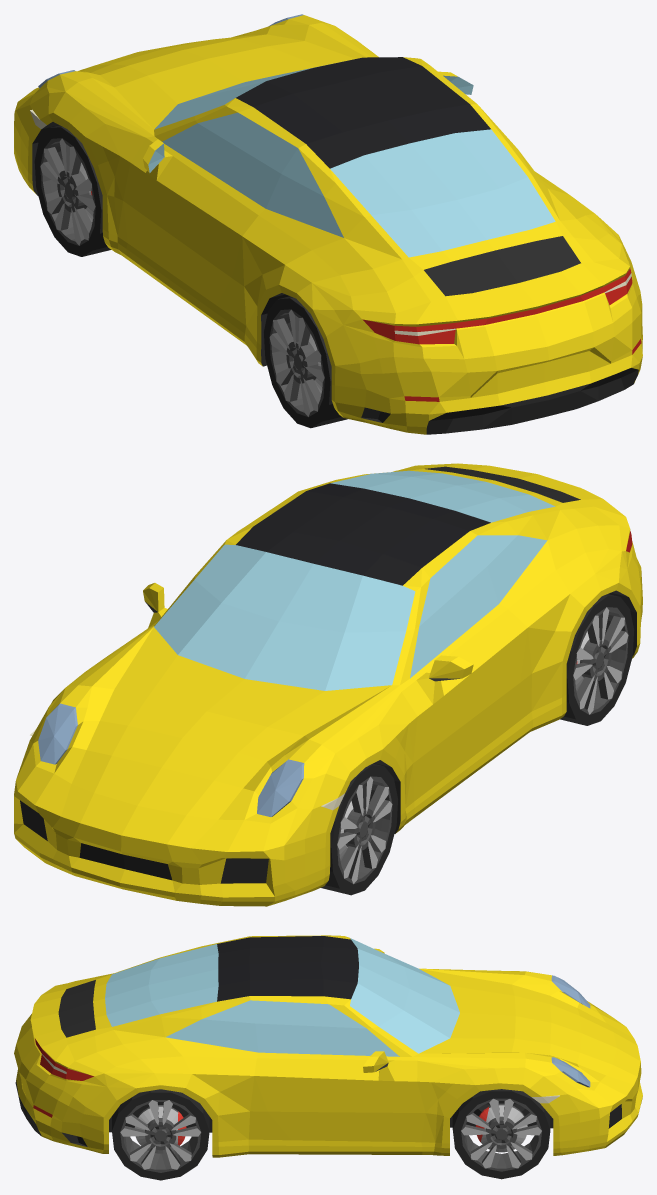
File: sports_car.glb
The picture shows the model from 3 angles, top to bottom: view 1: azimuth 30°, elevation 25°; view 2: azimuth 150°, elevation 25°; view 3: azimuth 270°, elevation 25°; orthographic projection. The views are drawn at different scales.
Parts seen in each view (by area): view 1: body, back_left_wheel, front_left_wheel; view 2: body, back_left_wheel, front_left_wheel; view 3: body, back_right_wheel, front_right_wheel.
Part boxes in pixels (bbox=[...]): body: bbox=[14, 14, 642, 434]; back_left_wheel: bbox=[264, 296, 347, 428]; front_left_wheel: bbox=[34, 125, 111, 256]; body: bbox=[14, 463, 642, 906]; back_left_wheel: bbox=[560, 594, 633, 725]; front_left_wheel: bbox=[321, 763, 397, 895]; body: bbox=[14, 935, 642, 1157]; back_right_wheel: bbox=[112, 1089, 209, 1180]; front_right_wheel: bbox=[452, 1089, 550, 1179].
Size of the model in its own units: 3.24 by 2.13 by 7.41.
